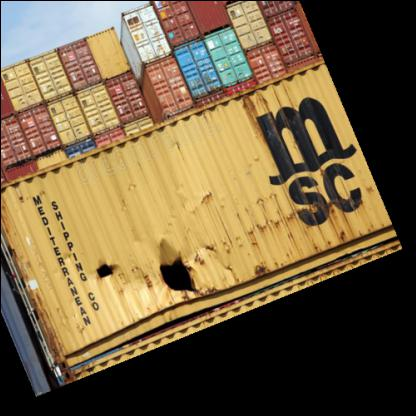Damage: (202, 184, 352, 264), (145, 249, 204, 297), (80, 252, 122, 280)
